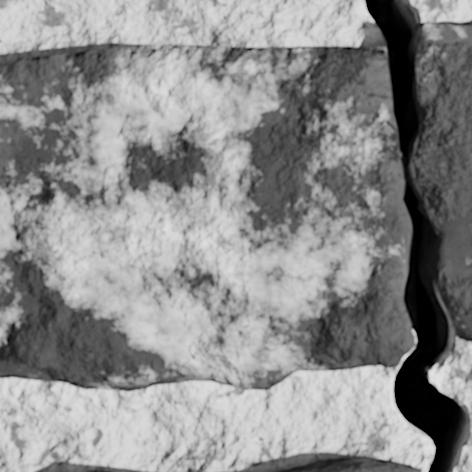brick: (282, 457, 419, 471)
broken_brick: (0, 43, 413, 392), (407, 20, 471, 342)
crack: (360, 0, 470, 471)
